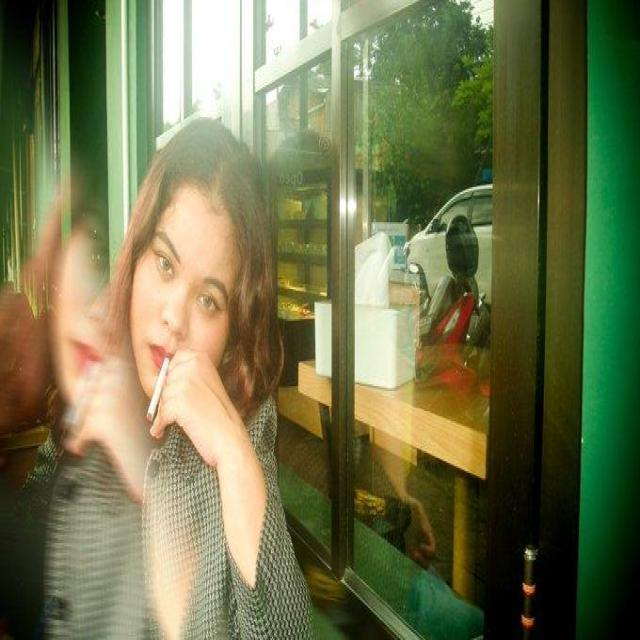rokok: (144, 356, 172, 420)
